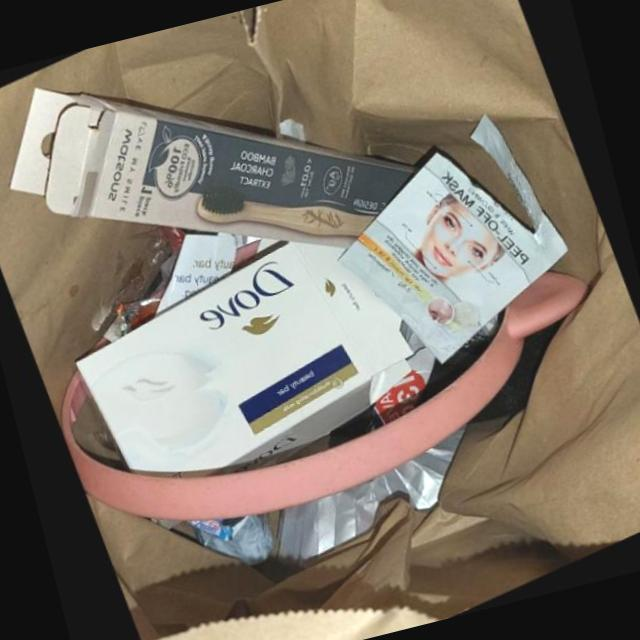carton: (71, 244, 412, 475), (2, 91, 411, 251)
giay: (145, 234, 235, 322)
goi_nhua_nho: (333, 117, 565, 366)
nhom: (275, 426, 465, 570)
